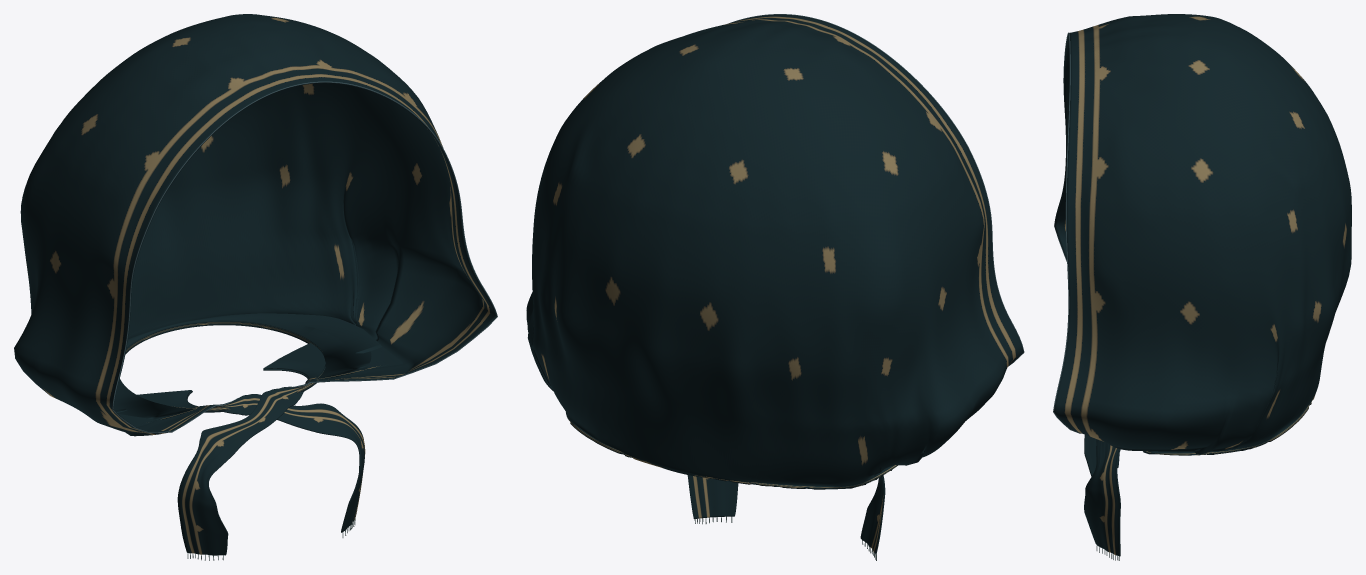
Rendered from Feminine-straight-jersey-pashmina249-headgear.glb.
The picture shows the model from 3 angles, left to right: view 1: azimuth 30°, elevation 25°; view 2: azimuth 150°, elevation 25°; view 3: azimuth 270°, elevation 25°; orthographic projection. The views are drawn at different scales.
Visible parts, largest first — view 1: 226 headgear / Headwear / continuous woven pashmina239, 226 headgear / Headwear / face edge239; view 2: 226 headgear / Headwear / continuous woven pashmina239, 226 headgear / Headwear / face edge239; view 3: 226 headgear / Headwear / continuous woven pashmina239, 226 headgear / Headwear / face edge239.
Boxes of the visible parts, x1,y1,x2,y2 form: 226 headgear / Headwear / continuous woven pashmina239: [14, 14, 496, 555]; 226 headgear / Headwear / face edge239: [112, 81, 497, 433]; 226 headgear / Headwear / continuous woven pashmina239: [526, 14, 1023, 554]; 226 headgear / Headwear / face edge239: [727, 14, 1024, 366]; 226 headgear / Headwear / continuous woven pashmina239: [1054, 14, 1351, 556]; 226 headgear / Headwear / face edge239: [1053, 32, 1081, 433].
Size of the model in its own units: 1.25 by 1.41 by 0.7784.
3 materials, 1 textured.
